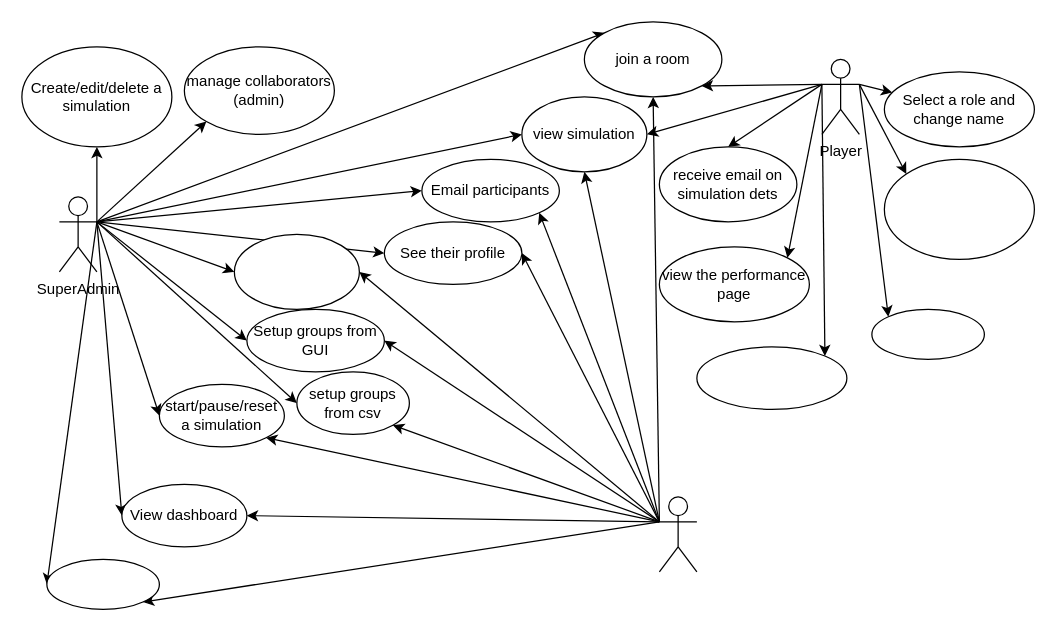
Some shapes in this 1056 by 635 pixel diagram are drawn without their labels. The shapes that lost their labels are listed below. From the top down, each one's centre as x and y in pixels, then its label:
At (958,208): "chat with other players in their room".
At (296,271): "monitor the simulation in progress".
At (927,333): "view alerts".
At (771,377): "play the simulation".
At (677,534): "Admin".
At (102,583): "Login as Admin".
